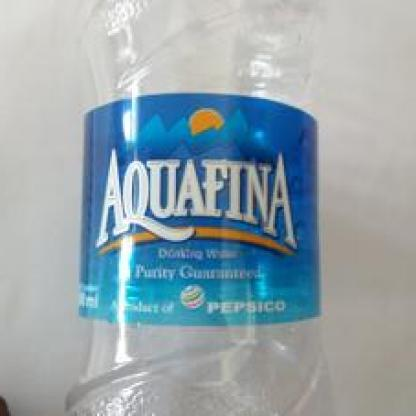bottle: (73, 0, 341, 414)
